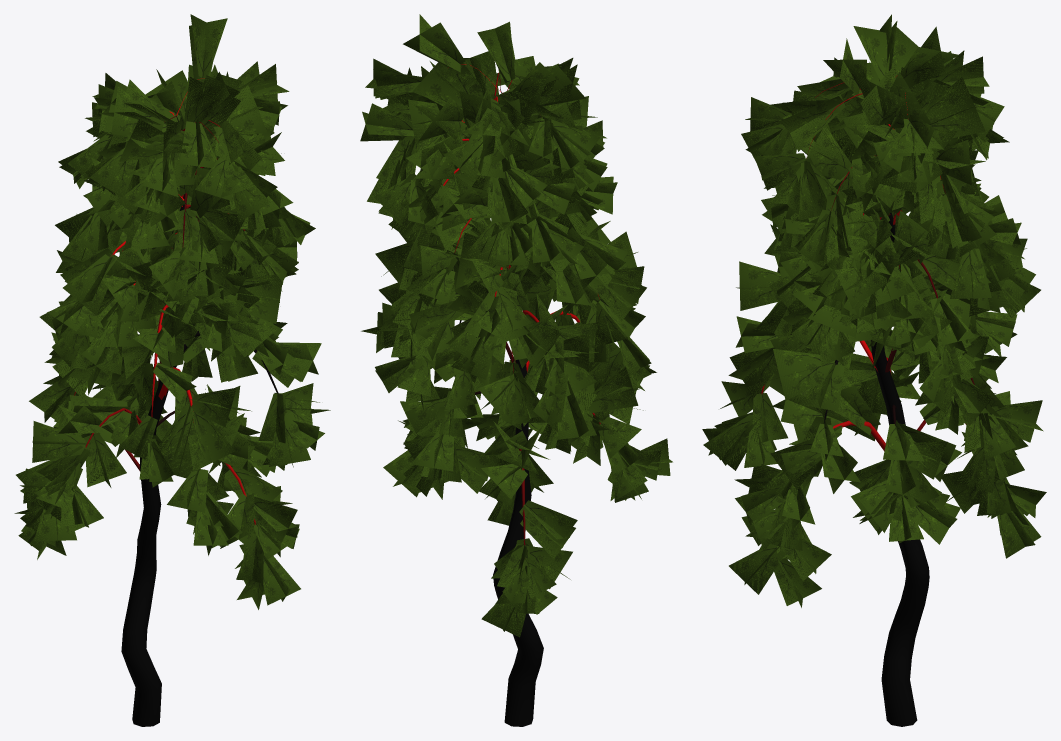
File: birch 4 lod0.FBX
3 renders of one model, left to right at view 1: azimuth 30°, elevation 25°; view 2: azimuth 150°, elevation 25°; view 3: azimuth 270°, elevation 25°, orthographic. The views are drawn at different scales.
Visible parts, largest first — view 1: birch4; view 2: birch4; view 3: birch4.
Boxes of the visible parts, bbox=[...] form: birch4: bbox=[14, 14, 330, 726]; birch4: bbox=[360, 14, 672, 726]; birch4: bbox=[702, 14, 1046, 726].
Size of the model in its own units: 76518 by 177351 by 76373.
